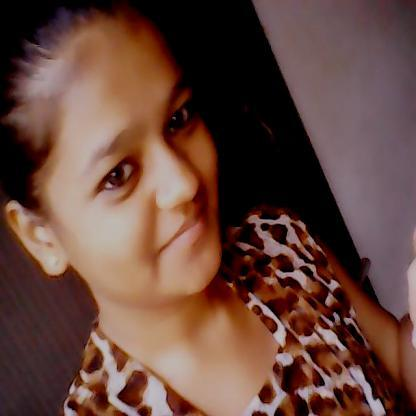without_mask: (71, 91, 225, 279)
